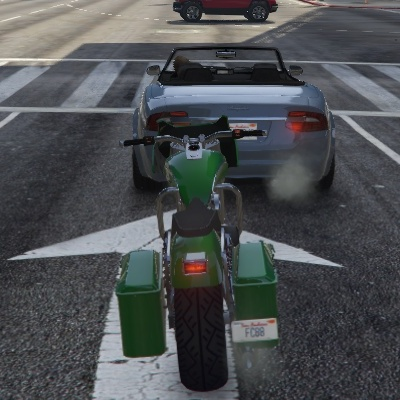on: (179, 250, 210, 278)
